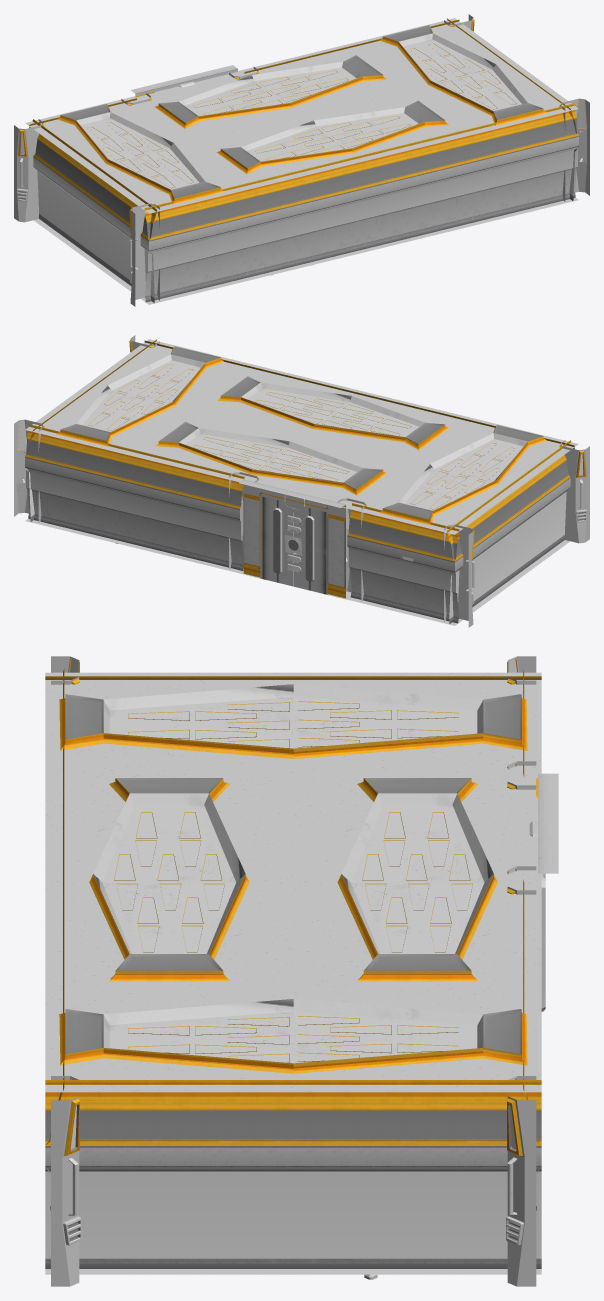
The picture shows the model from 3 angles, top to bottom: view 1: azimuth 30°, elevation 25°; view 2: azimuth 150°, elevation 25°; view 3: azimuth 270°, elevation 25°; orthographic projection. The views are drawn at different scales.
Parts seen in each view (by area): view 1: JChen_Ceiling_网格.080_AVazquez_TrimSheet, AVazquez_Detail6_网格.084_AVazquez_TrimSheet, AVazquez_Detail6_网格.084_JChen_TrimSheet; view 2: JChen_Ceiling_网格.080_AVazquez_TrimSheet, AVazquez_Detail6_网格.084_AVazquez_TrimSheet, AVazquez_Detail6_网格.084_JChen_TrimSheet; view 3: JChen_Ceiling_网格.080_AVazquez_TrimSheet, AVazquez_Detail6_网格.084_AVazquez_TrimSheet, AVazquez_Detail6_网格.084_JChen_TrimSheet.
Part boxes in pixels (<box>): JChen_Ceiling_网格.080_AVazquez_TrimSheet: <box>14,14,589,306</box>; AVazquez_Detail6_网格.084_AVazquez_TrimSheet: <box>29,18,578,302</box>; AVazquez_Detail6_网格.084_JChen_TrimSheet: <box>37,151,574,297</box>; JChen_Ceiling_网格.080_AVazquez_TrimSheet: <box>14,335,589,627</box>; AVazquez_Detail6_网格.084_AVazquez_TrimSheet: <box>25,339,574,623</box>; AVazquez_Detail6_网格.084_JChen_TrimSheet: <box>29,472,566,618</box>; JChen_Ceiling_网格.080_AVazquez_TrimSheet: <box>45,656,541,1286</box>; AVazquez_Detail6_网格.084_AVazquez_TrimSheet: <box>45,669,558,1268</box>; AVazquez_Detail6_网格.084_JChen_TrimSheet: <box>45,1171,541,1258</box>.
Bounding box in the file's own units: 0.1273 × 0.0302 × 0.062.
